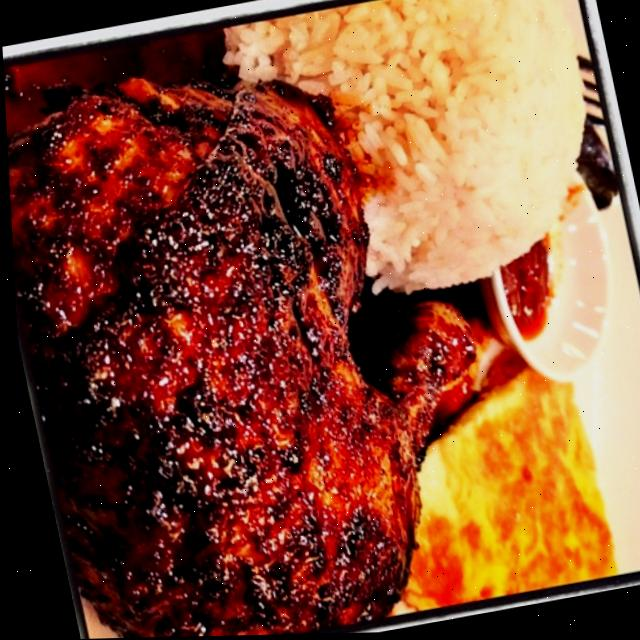鸡肉料理 含炸鸡: (1, 3, 575, 640)
